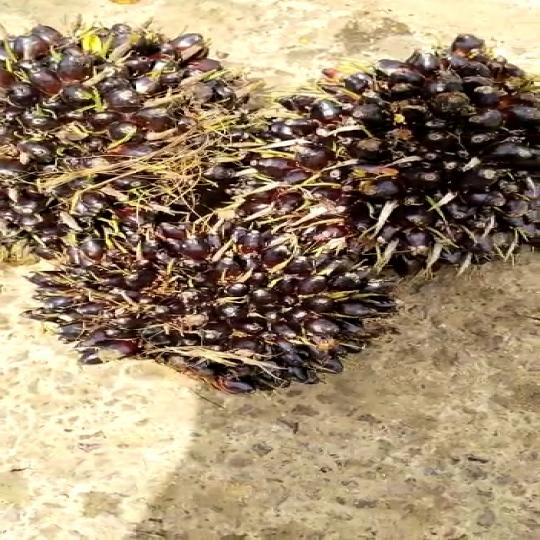mentah: (255, 32, 540, 277), (29, 219, 412, 393), (0, 19, 242, 259)
